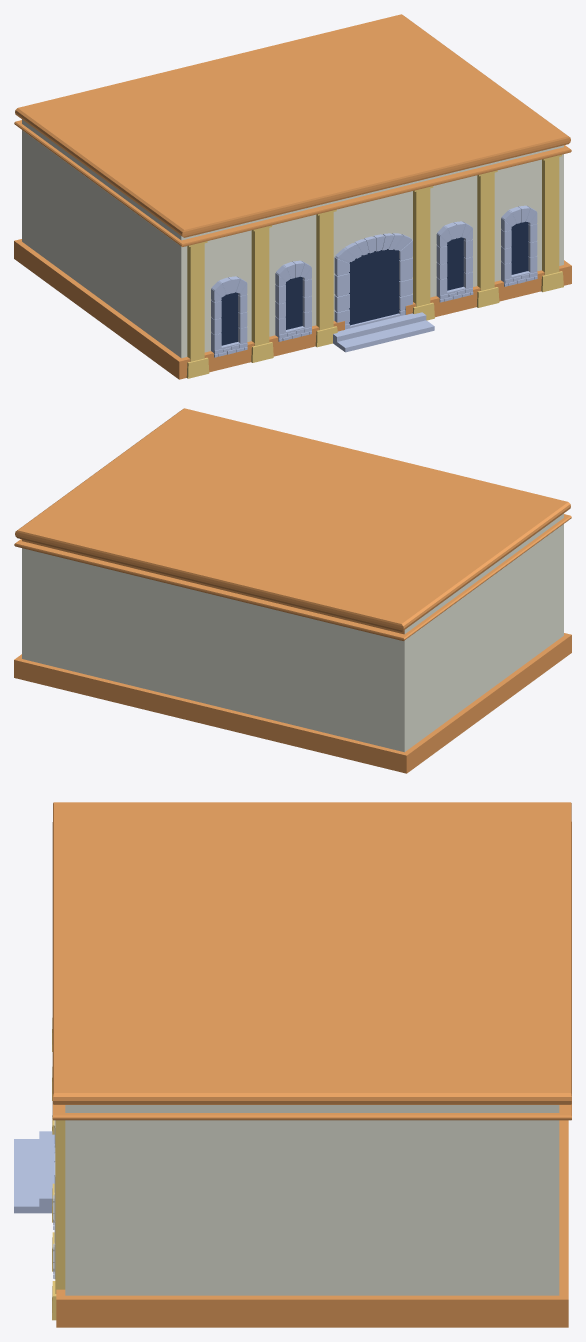
Rendered from MOR_TEP_CASA_00.fbx.
3 views of the same model, one above another, from view 1: azimuth 30°, elevation 25°; view 2: azimuth 150°, elevation 25°; view 3: azimuth 270°, elevation 25° (orthographic). The views are drawn at different scales.
Visible parts, largest first — view 1: Mor_Tep_Casa_00_LOD0; view 2: Mor_Tep_Casa_00_LOD0; view 3: Mor_Tep_Casa_00_LOD0.
Boxes of the visible parts, box(x1,y1,x2,y2) form: Mor_Tep_Casa_00_LOD0: box(14, 14, 571, 379); Mor_Tep_Casa_00_LOD0: box(14, 408, 571, 773); Mor_Tep_Casa_00_LOD0: box(14, 802, 571, 1327).
Size of what is drawn, in the model's own units: 823 by 299 by 653.
